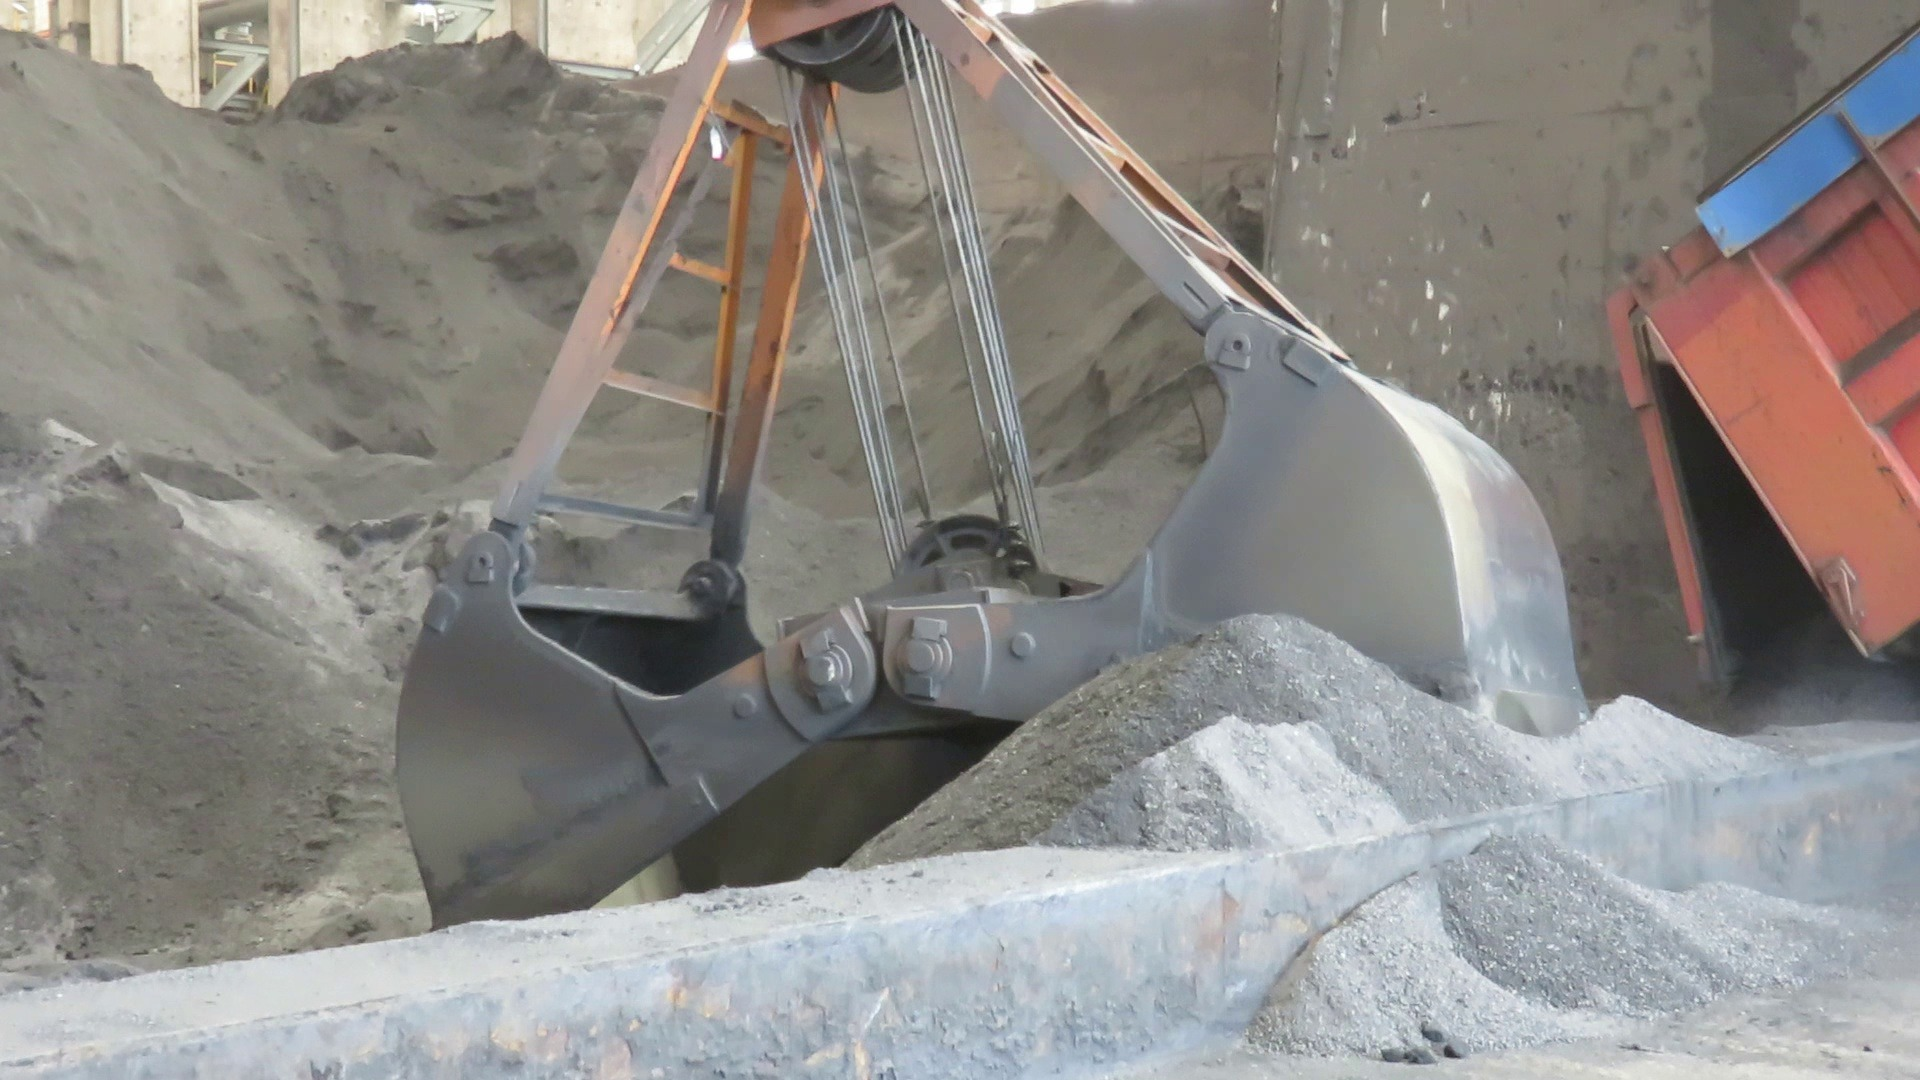grab: (386, 0, 1592, 942)
